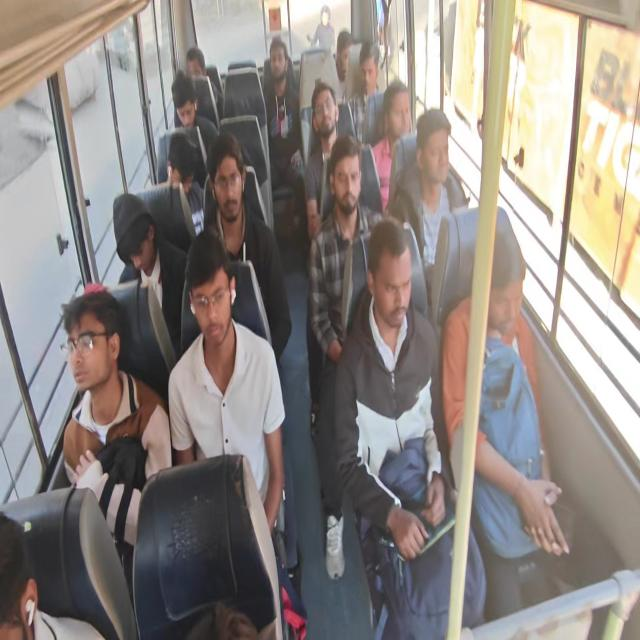person: (182, 224, 246, 347), (58, 280, 124, 397), (474, 227, 538, 340), (2, 493, 43, 640), (370, 209, 414, 339), (102, 185, 164, 277), (410, 103, 468, 191), (204, 130, 249, 216), (162, 56, 205, 129), (161, 122, 197, 205), (376, 77, 416, 151), (329, 131, 363, 215), (180, 32, 211, 90), (308, 80, 344, 128), (356, 37, 384, 91), (335, 16, 355, 83), (264, 36, 290, 86)
